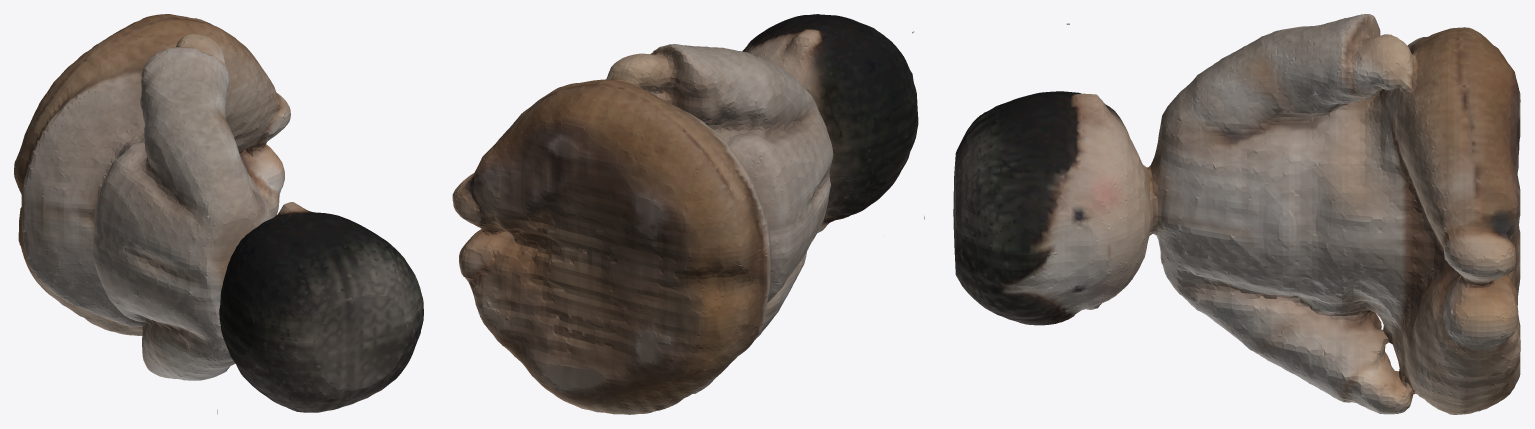
Rendered from baby_sit_new.glb.
The picture shows the model from 3 angles, left to right: view 1: azimuth 30°, elevation 25°; view 2: azimuth 150°, elevation 25°; view 3: azimuth 270°, elevation 25°; orthographic projection. The views are drawn at different scales.
Parts seen in each view (by area): view 1: baby_sit.obj; view 2: baby_sit.obj; view 3: baby_sit.obj.
Boxes of the visible parts, <box> form: baby_sit.obj: <box>14,14,423,414</box>; baby_sit.obj: <box>452,14,924,414</box>; baby_sit.obj: <box>953,14,1520,414</box>.
Size of the model in its own units: 1.28 by 1.43 by 1.94.
